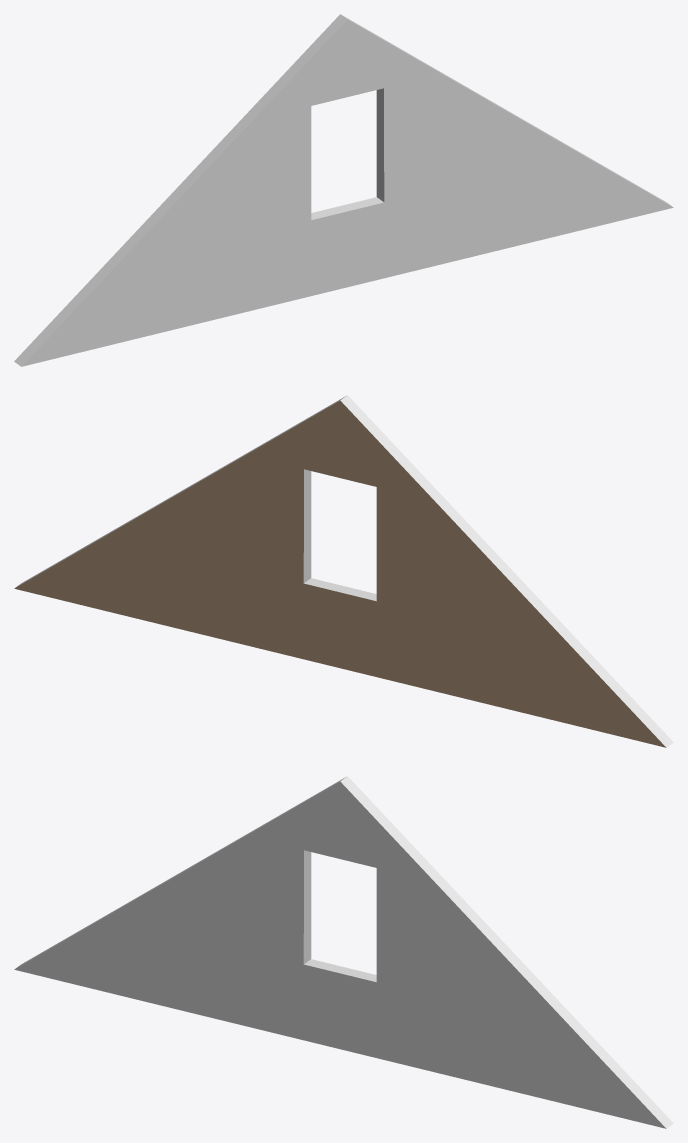
File: Wall2_C2_19.fbx
3 renders of one model, top to bottom at view 1: azimuth 30°, elevation 25°; view 2: azimuth 150°, elevation 25°; view 3: azimuth 330°, elevation 25°, orthographic.
Visible parts, largest first — view 1: Wall2_C2_19; view 2: Wall2_C2_19; view 3: Wall2_C2_19.
Boxes of the visible parts, x1,y1,x2,y2 form: Wall2_C2_19: (14, 14, 673, 366); Wall2_C2_19: (14, 395, 673, 747); Wall2_C2_19: (14, 776, 673, 1128).
Bounding box in the file's own units: 765 × 300 × 15.
